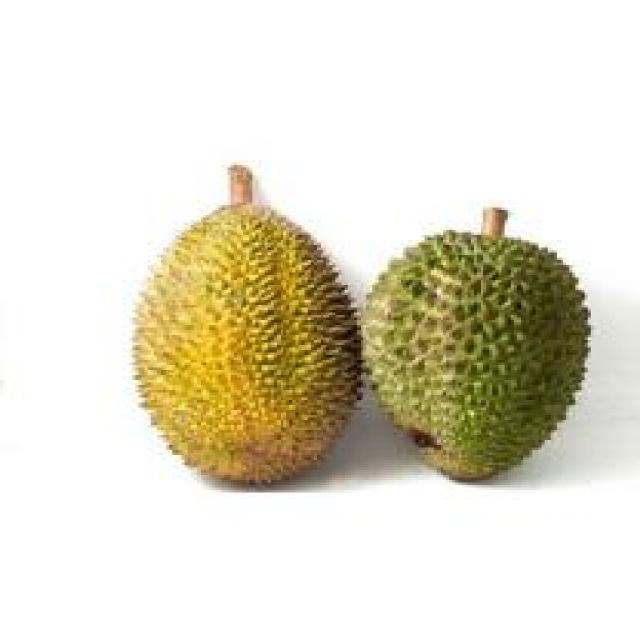fruit: (98, 182, 391, 502), (327, 208, 616, 500)
